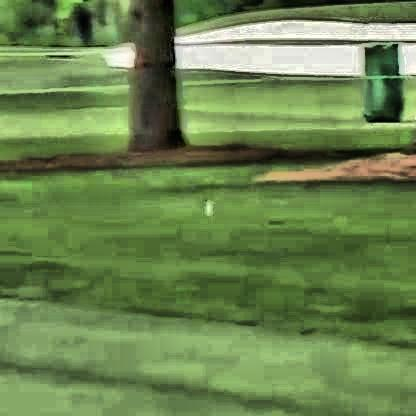golfball: (202, 192, 212, 211)
